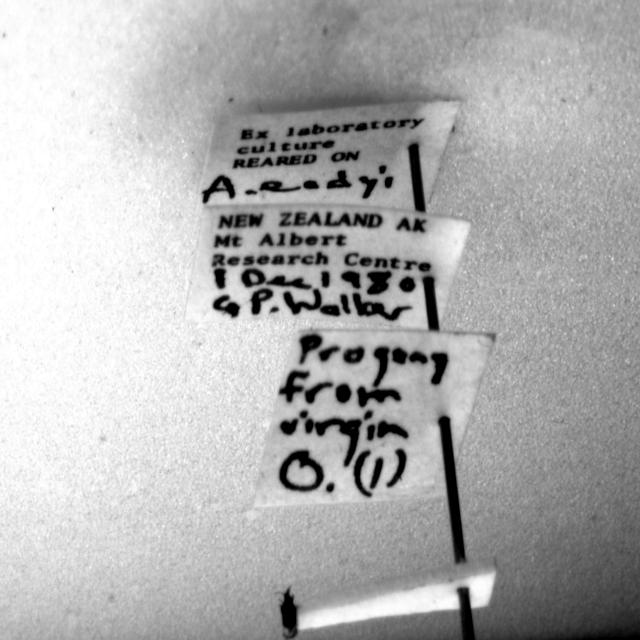hand_label: (254, 330, 494, 506)
mixed_label: (185, 206, 470, 328), (195, 99, 461, 214)
